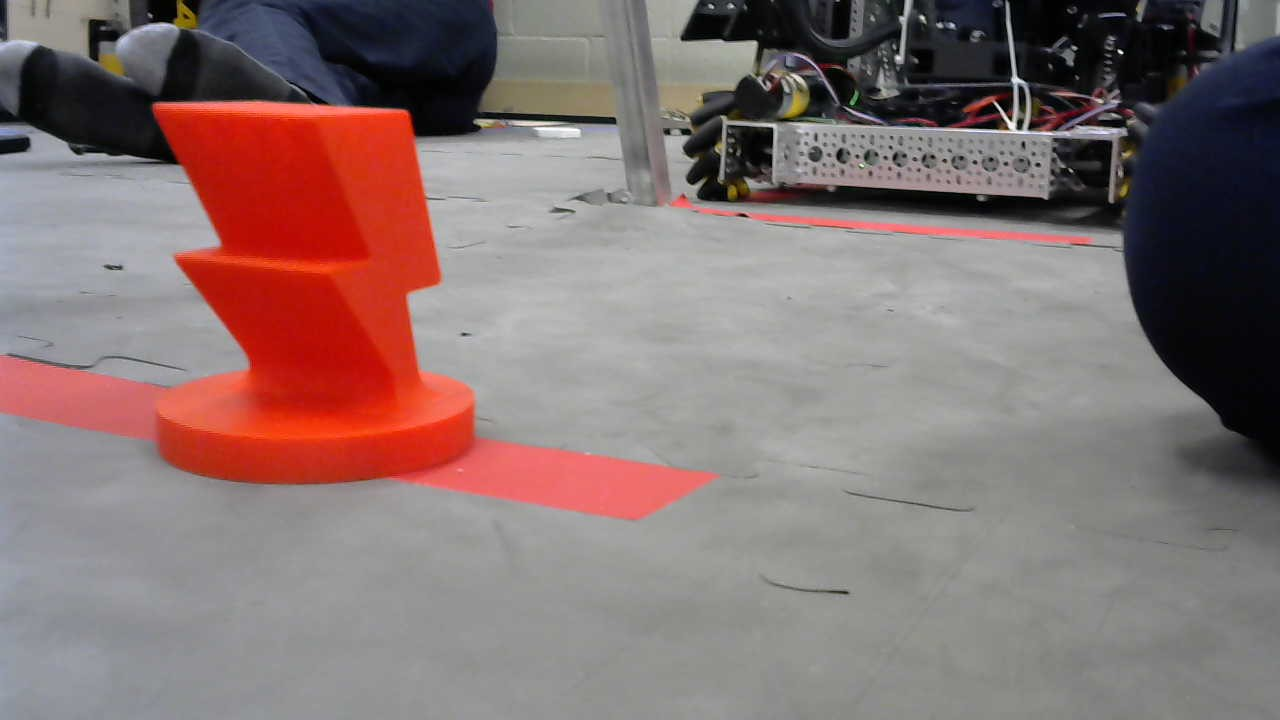redobject: (144, 95, 478, 492)
